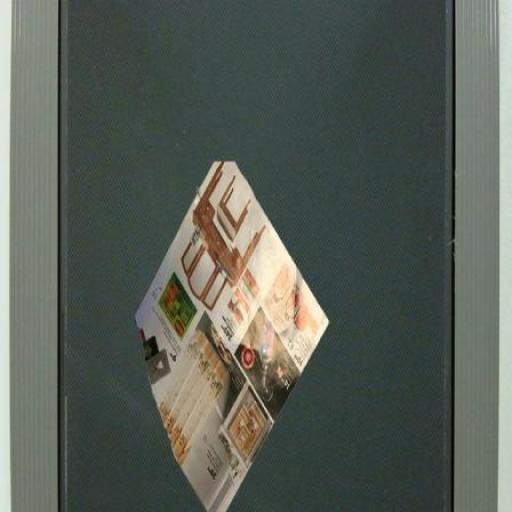paper: (94, 92, 376, 512)
